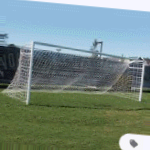goals: (3, 40, 146, 106)
